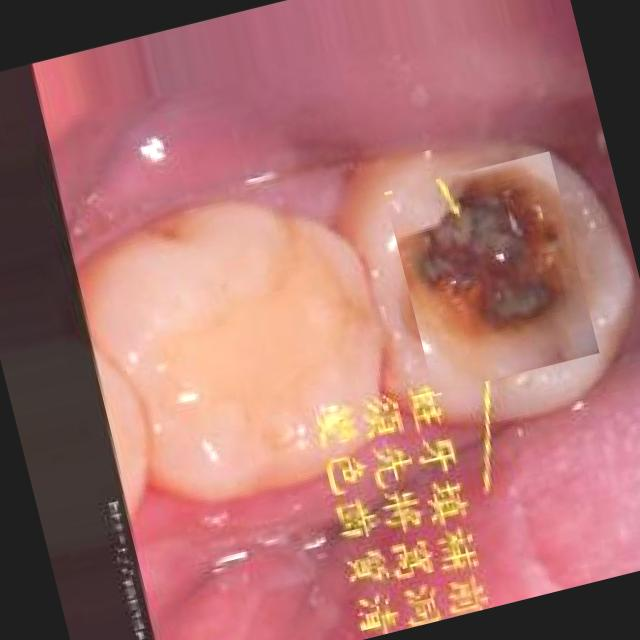caries: (384, 150, 598, 392)
